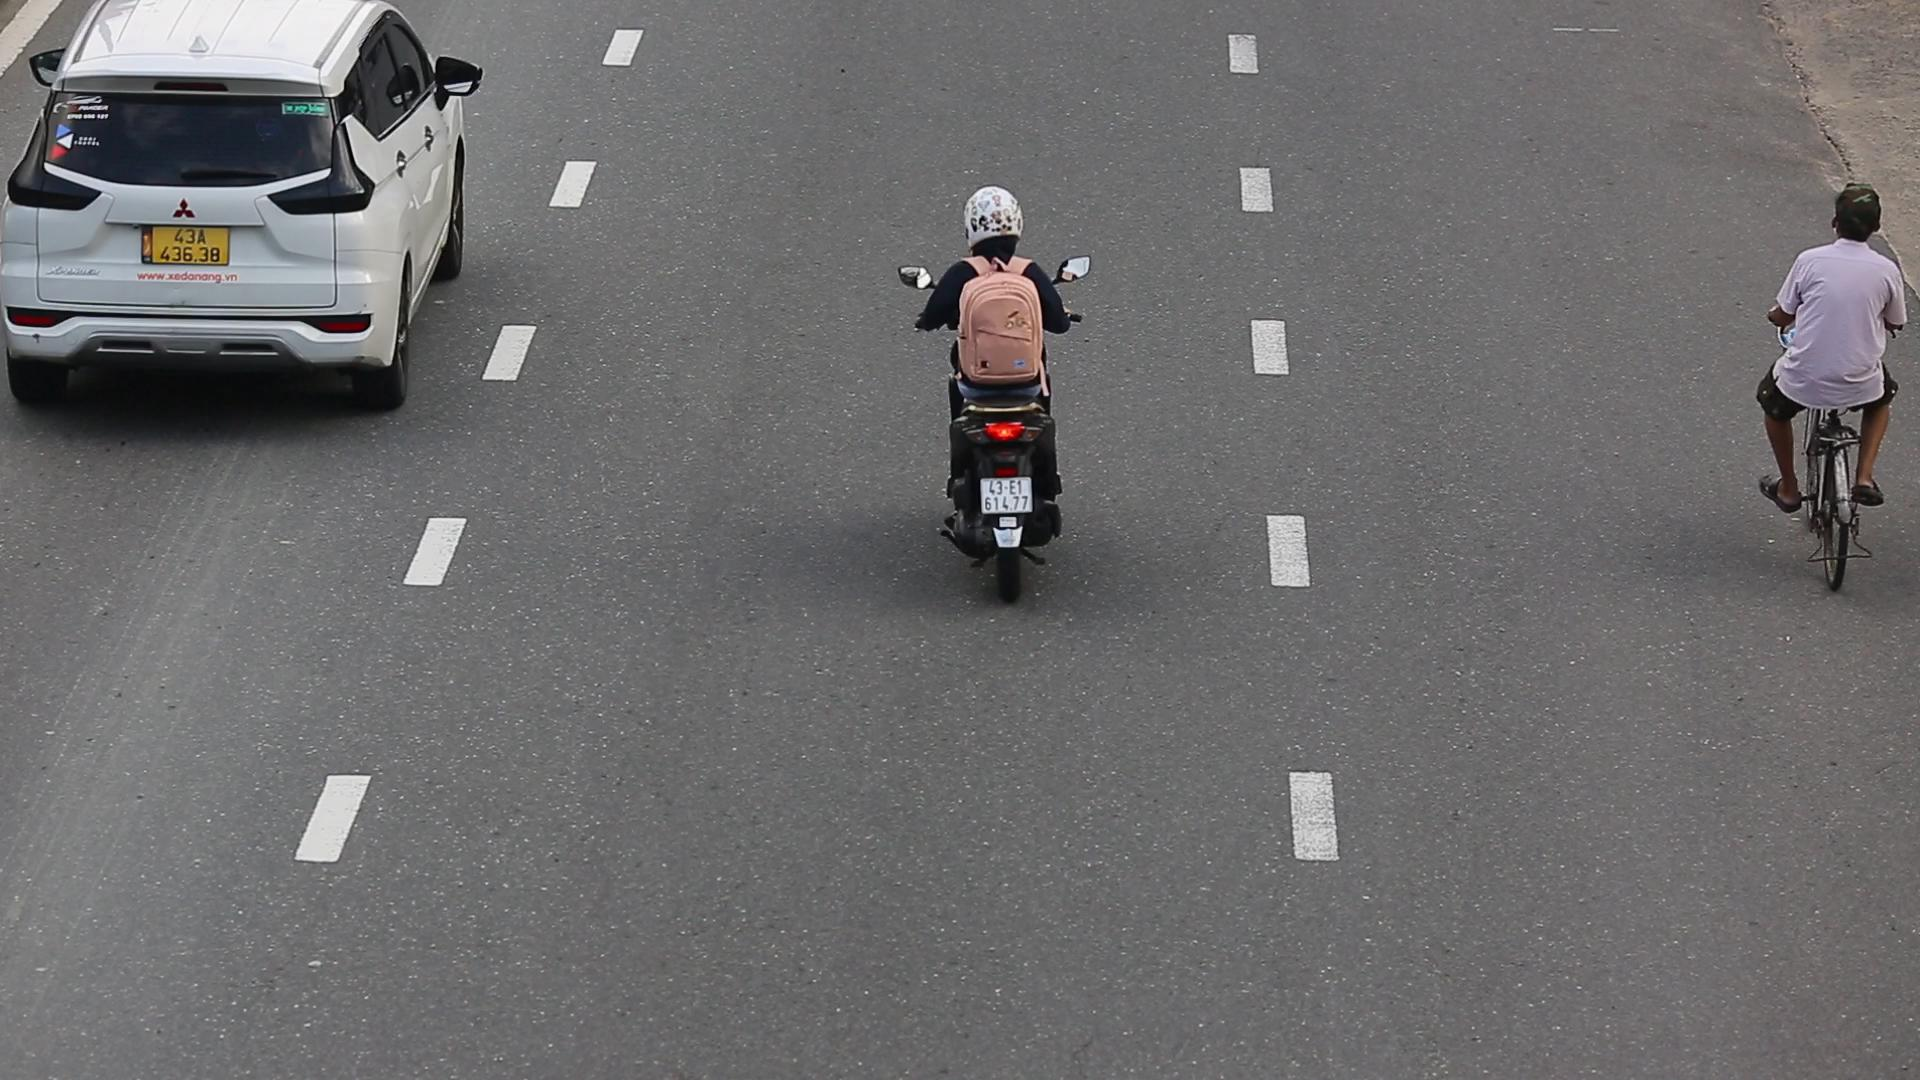motobike: (872, 158, 1113, 605)
